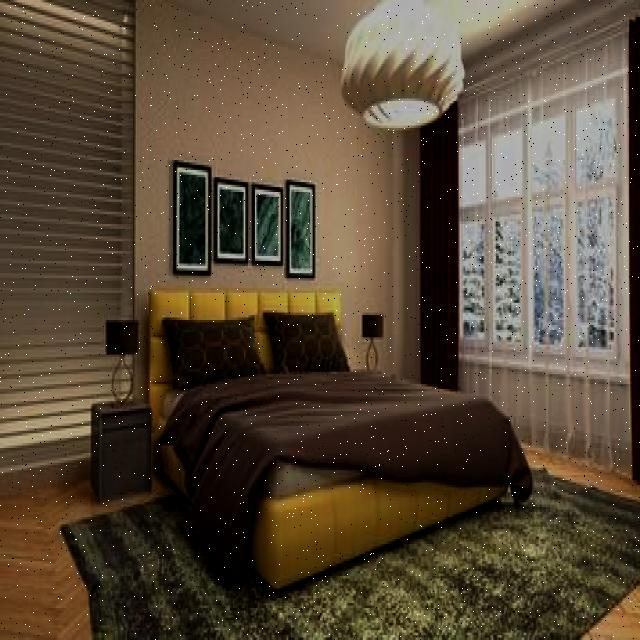bed: (152, 275, 518, 556)
